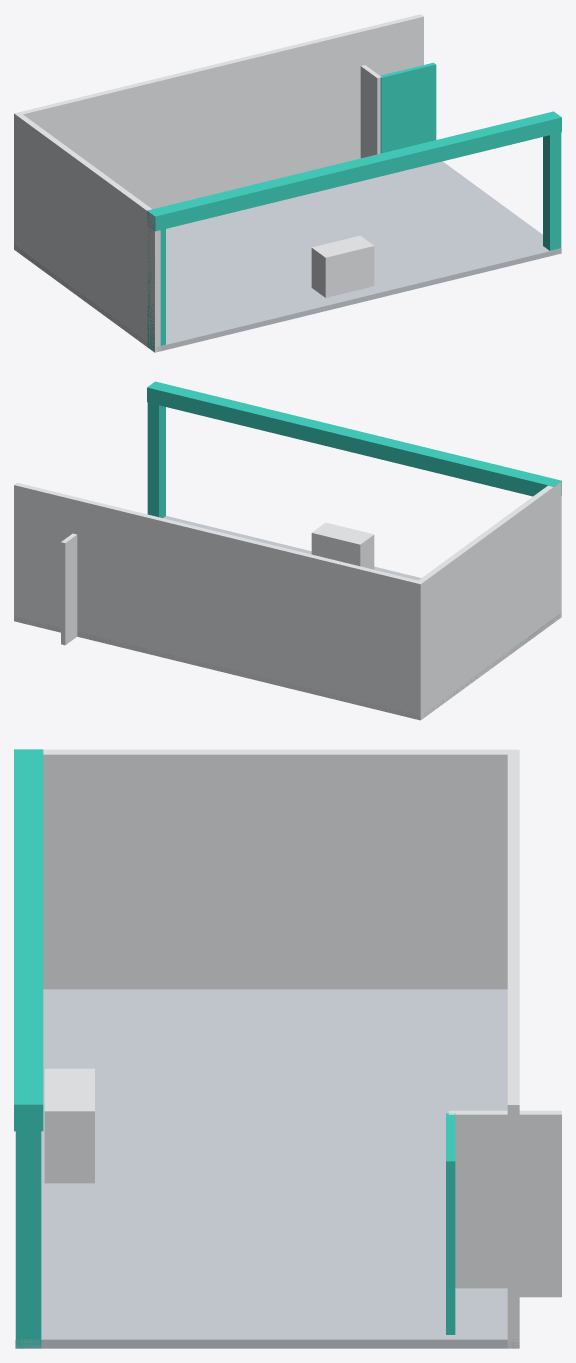
3 renders of one model, top to bottom at view 1: azimuth 30°, elevation 25°; view 2: azimuth 150°, elevation 25°; view 3: azimuth 270°, elevation 25°, orthographic. The views are drawn at different scales.
Parts seen in each view (by area): view 1: Exhibition Booth Concept; view 2: Exhibition Booth Concept; view 3: Exhibition Booth Concept.
Boxes of the visible parts, left/top/right/bottom form: Exhibition Booth Concept: left=14, top=14, right=561, bottom=352; Exhibition Booth Concept: left=14, top=381, right=561, bottom=720; Exhibition Booth Concept: left=14, top=749, right=561, bottom=1348.
Bounding box in the file's own units: 10 × 3.2 × 6.52.
